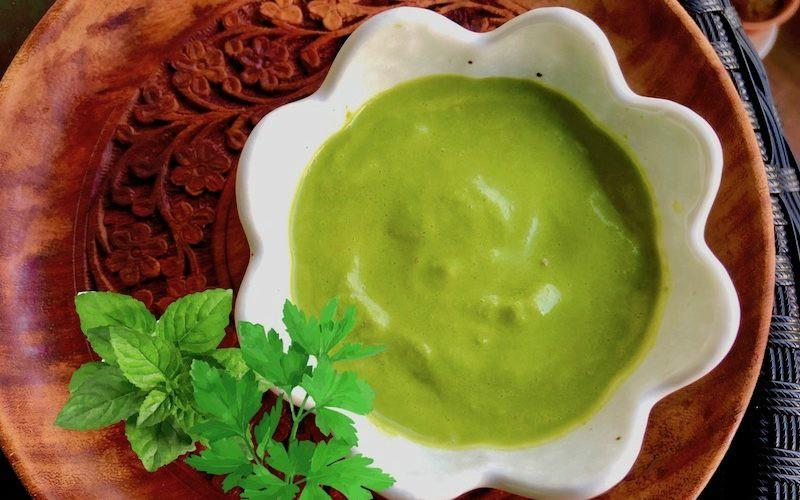GreenChutney: (293, 80, 658, 446)
